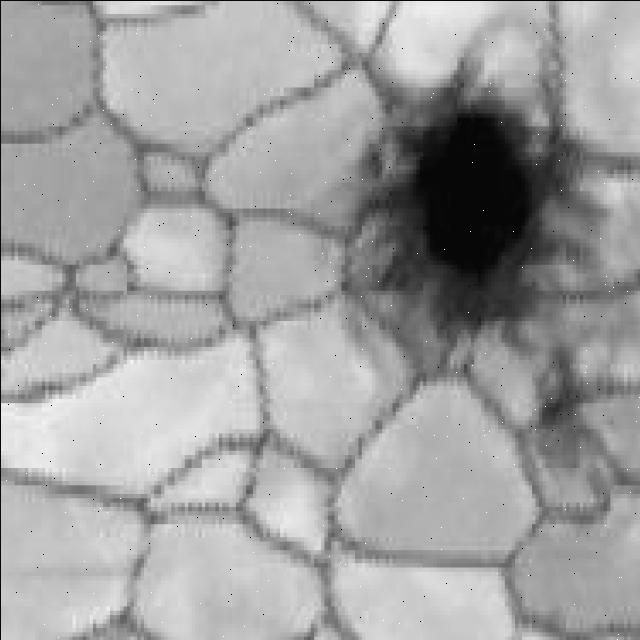good_void: (341, 50, 602, 388), (518, 343, 591, 467)
